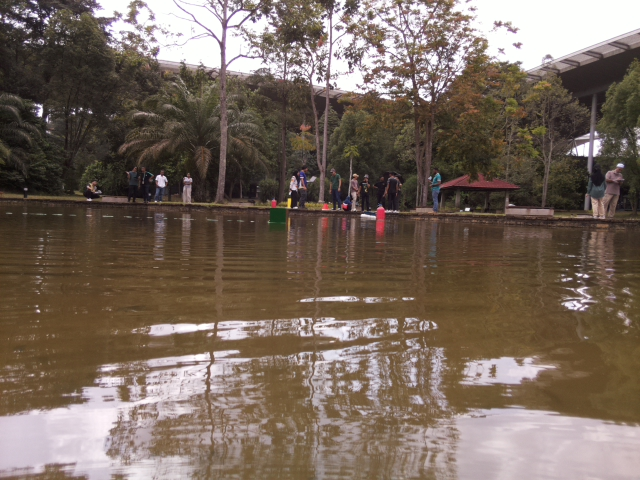obstacle: (268, 206, 288, 224)
